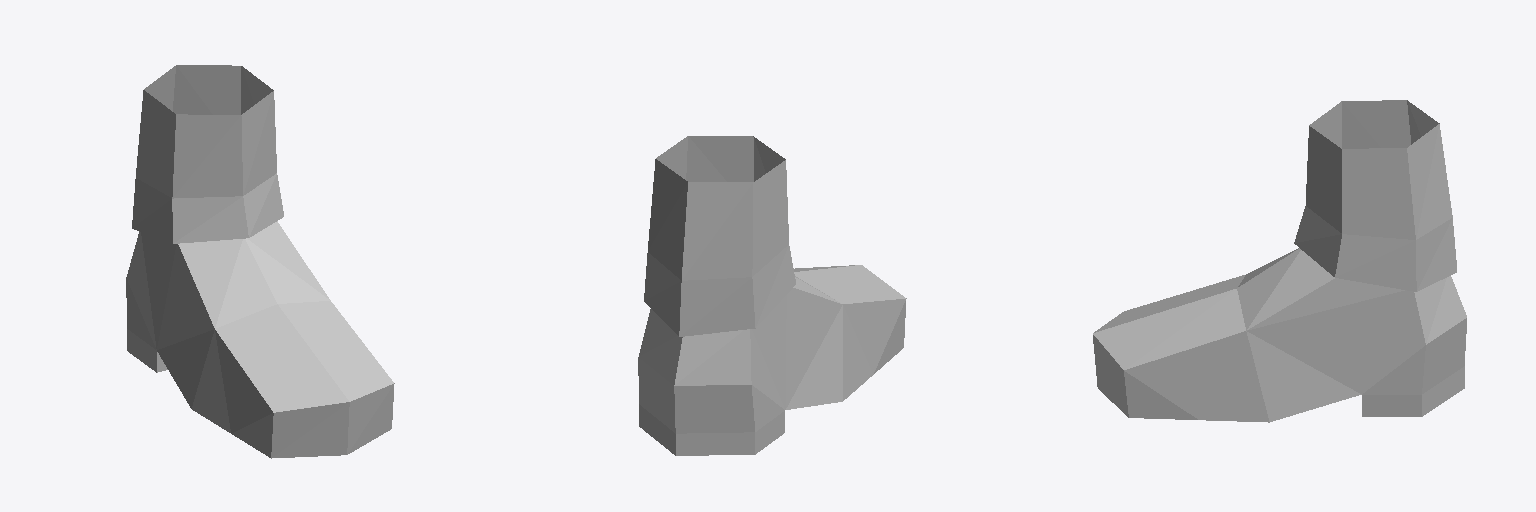
File: Jack_pie_izq.obj
The picture shows the model from 3 angles: view 1: azimuth 30°, elevation 25°; view 2: azimuth 150°, elevation 25°; view 3: azimuth 270°, elevation 25°; orthographic projection.
Visible parts, largest first — view 1: rdmobj01.012_rdmobj01.015; view 2: rdmobj01.012_rdmobj01.015; view 3: rdmobj01.012_rdmobj01.015.
Boxes of the visible parts, x1=… form: rdmobj01.012_rdmobj01.015: x1=126, y1=65, x2=394, y2=458; rdmobj01.012_rdmobj01.015: x1=638, y1=136, x2=906, y2=455; rdmobj01.012_rdmobj01.015: x1=1093, y1=100, x2=1466, y2=422.
Size of the model in its own units: 0.0739 by 0.1341 by 0.1719.